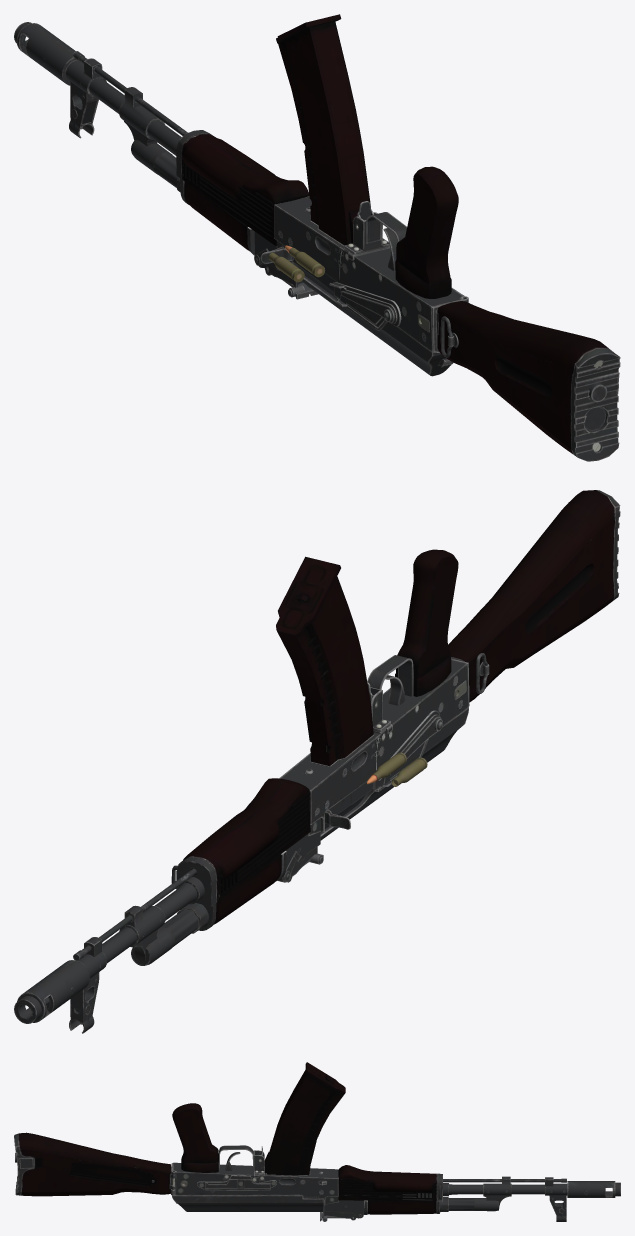
3 views of the same model, one above another, from view 1: azimuth 30°, elevation 25°; view 2: azimuth 150°, elevation 25°; view 3: azimuth 270°, elevation 25° (orthographic). The views are drawn at different scales.
Visible parts, largest first — view 1: Stock_lowT, Magazine_lowT, Receiver_lowT, Handle_lowT, Forend_lowT, Barrel2_lowT, ReceiverCover_lowT, Barrel1_lowT, IronsightFront_lowT, Forend1_lowT, GasOutletPipe_lowT, MagHolder_lowT (+6 smaller); view 2: Stock_lowT, Magazine_lowT, Receiver_lowT, Forend_lowT, Handle_lowT, Barrel2_lowT, Barrel1_lowT, GasOutletPipe_lowT, Forend1_lowT, IronsightFront_lowT, MagHolder_lowT, ReceiverCover_lowT (+5 smaller); view 3: Stock_lowT, Magazine_lowT, Receiver_lowT, Forend_lowT, ReceiverCover_lowT, Handle_lowT, GasOutletPipe_lowT, Barrel2_lowT, Forend1_lowT, Barrel1_lowT, DovetailSupport_lowT, Barrel_lowT (+4 smaller).
Boxes of the visible parts, <box> form: Stock_lowT: <box>437,301,620,461</box>; Magazine_lowT: <box>276,14,371,245</box>; Receiver_lowT: <box>274,196,464,351</box>; Handle_lowT: <box>395,166,458,298</box>; Forend_lowT: <box>176,130,309,245</box>; Barrel2_lowT: <box>119,87,178,187</box>; ReceiverCover_lowT: <box>301,276,453,376</box>; Barrel1_lowT: <box>14,22,77,85</box>; IronsightFront_lowT: <box>66,58,106,138</box>; Forend1_lowT: <box>182,156,273,239</box>; GasOutletPipe_lowT: <box>177,177,254,255</box>; MagHolder_lowT: <box>344,212,407,260</box>; Stock_lowT: <box>448,490,620,702</box>; Magazine_lowT: <box>276,556,373,766</box>; Receiver_lowT: <box>279,659,468,836</box>; Forend_lowT: <box>176,778,310,906</box>; Handle_lowT: <box>395,549,458,696</box>; Barrel2_lowT: <box>119,905,198,965</box>; Barrel1_lowT: <box>14,960,89,1023</box>; GasOutletPipe_lowT: <box>177,851,286,933</box>; Forend1_lowT: <box>218,792,310,897</box>; IronsightFront_lowT: <box>69,937,106,1033</box>; MagHolder_lowT: <box>367,655,413,734</box>; ReceiverCover_lowT: <box>320,707,468,840</box>; Stock_lowT: <box>14,1132,171,1196</box>; Magazine_lowT: <box>264,1062,345,1175</box>; Receiver_lowT: <box>173,1162,338,1205</box>; Forend_lowT: <box>338,1165,448,1201</box>; ReceiverCover_lowT: <box>172,1195,323,1211</box>; Handle_lowT: <box>172,1103,218,1172</box>; GasOutletPipe_lowT: <box>364,1197,448,1214</box>; Barrel2_lowT: <box>448,1176,511,1211</box>; Forend1_lowT: <box>340,1178,435,1199</box>; Barrel1_lowT: <box>567,1181,620,1197</box>; DovetailSupport_lowT: <box>197,1175,276,1190</box>; Barrel_lowT: <box>449,1184,544,1194</box>.
Bounding box in the file's own units: 0.0826 × 0.2518 × 0.9.
Materials: 1 (1 with a texture image).
